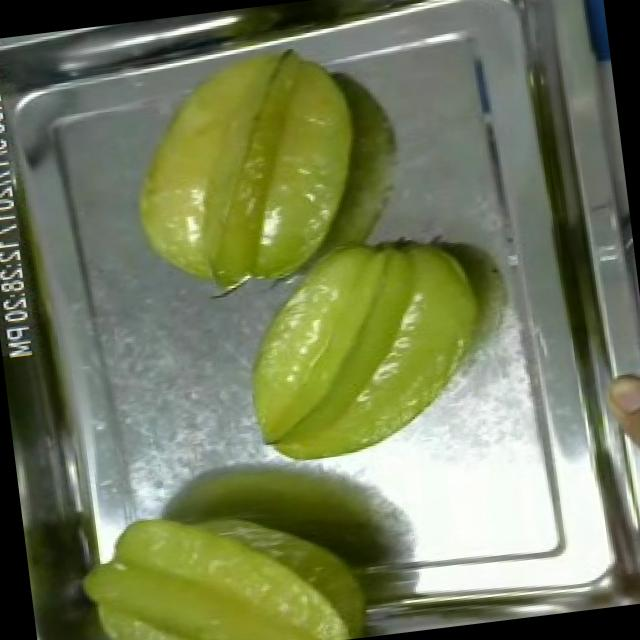fruit: (103, 33, 388, 314), (224, 213, 511, 478), (64, 480, 376, 640), (598, 362, 640, 513)
